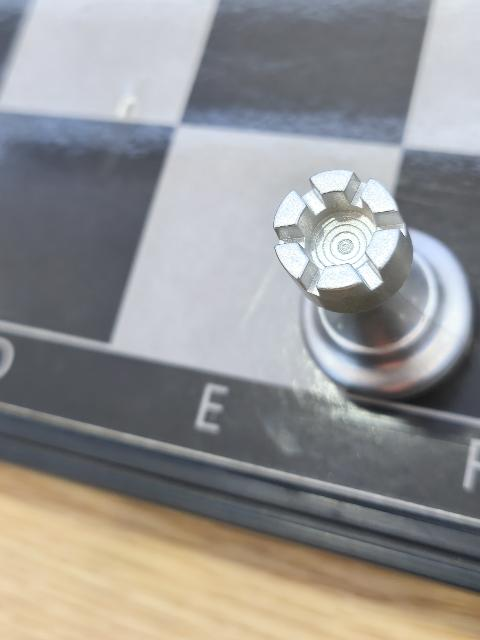white_rook: (273, 166, 471, 396)
